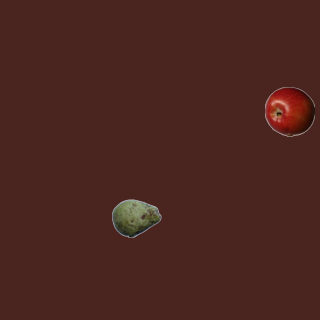Apple Braeburn: (264, 86, 314, 136)
Pear Stone: (111, 193, 161, 243)
